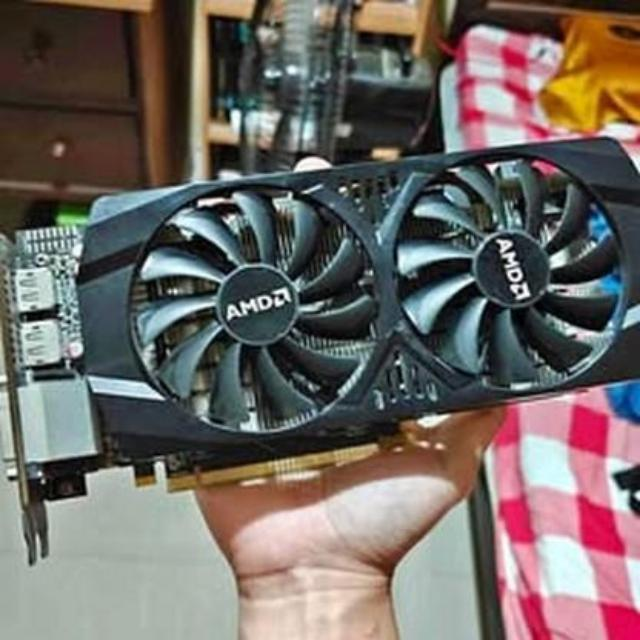GPU: (3, 120, 640, 514)
